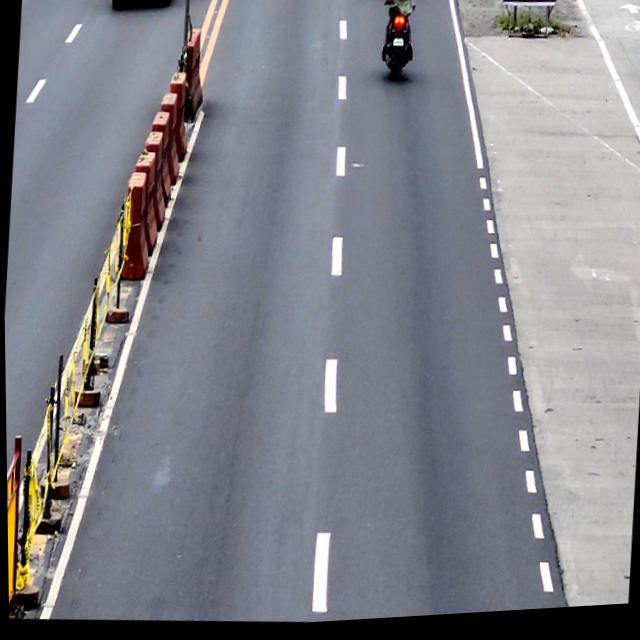License-Plate: (392, 41, 404, 53)
Motorcycle: (377, 0, 416, 87)
